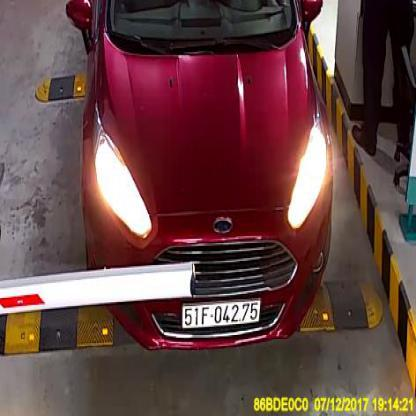biensoxe: (181, 300, 261, 329)
